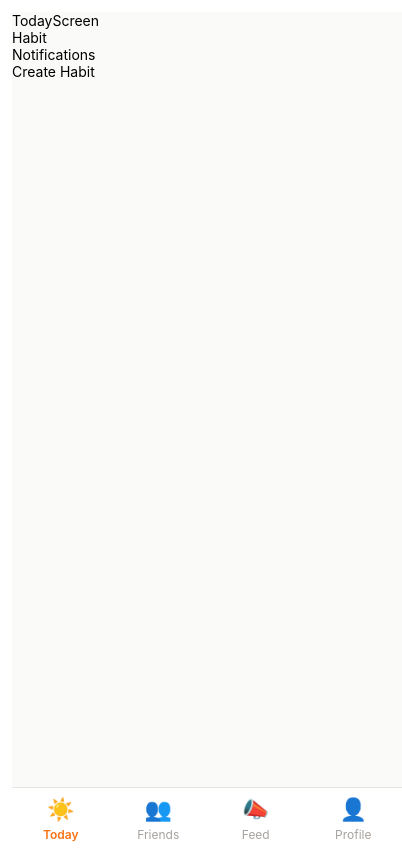
Test: RootNavigator › navigates to edit profile from Profile tab
Click the tab with test id "tab-profile": (353, 819) top-left (335, 796), bottom-right (371, 842)
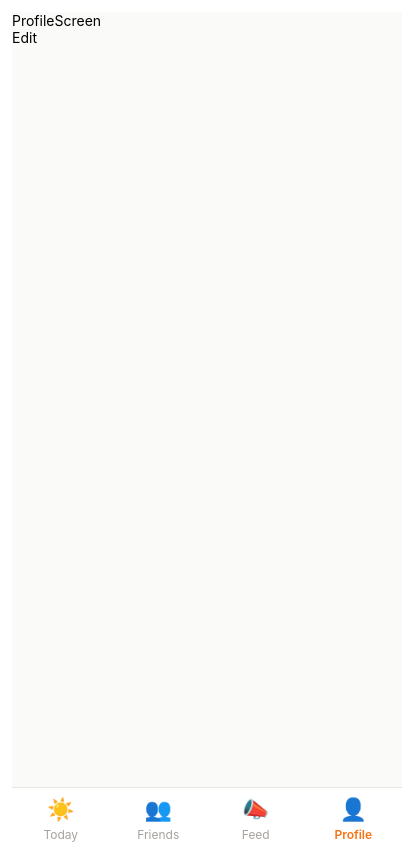
Click the element with test id "edit-profile-press": (24, 38) top-left (12, 29), bottom-right (37, 46)
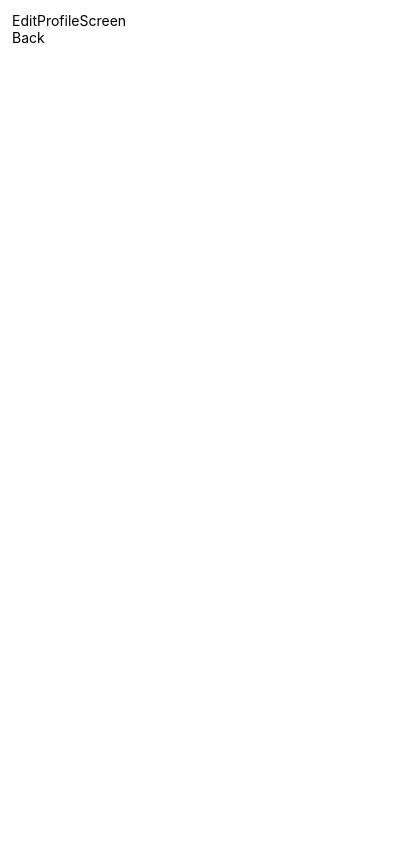
Check: the element with test id "edit-profile-screen" is shown, box top-left (12, 12), bottom-right (126, 46)
Check: the element with test id "tab-bar" is gone
